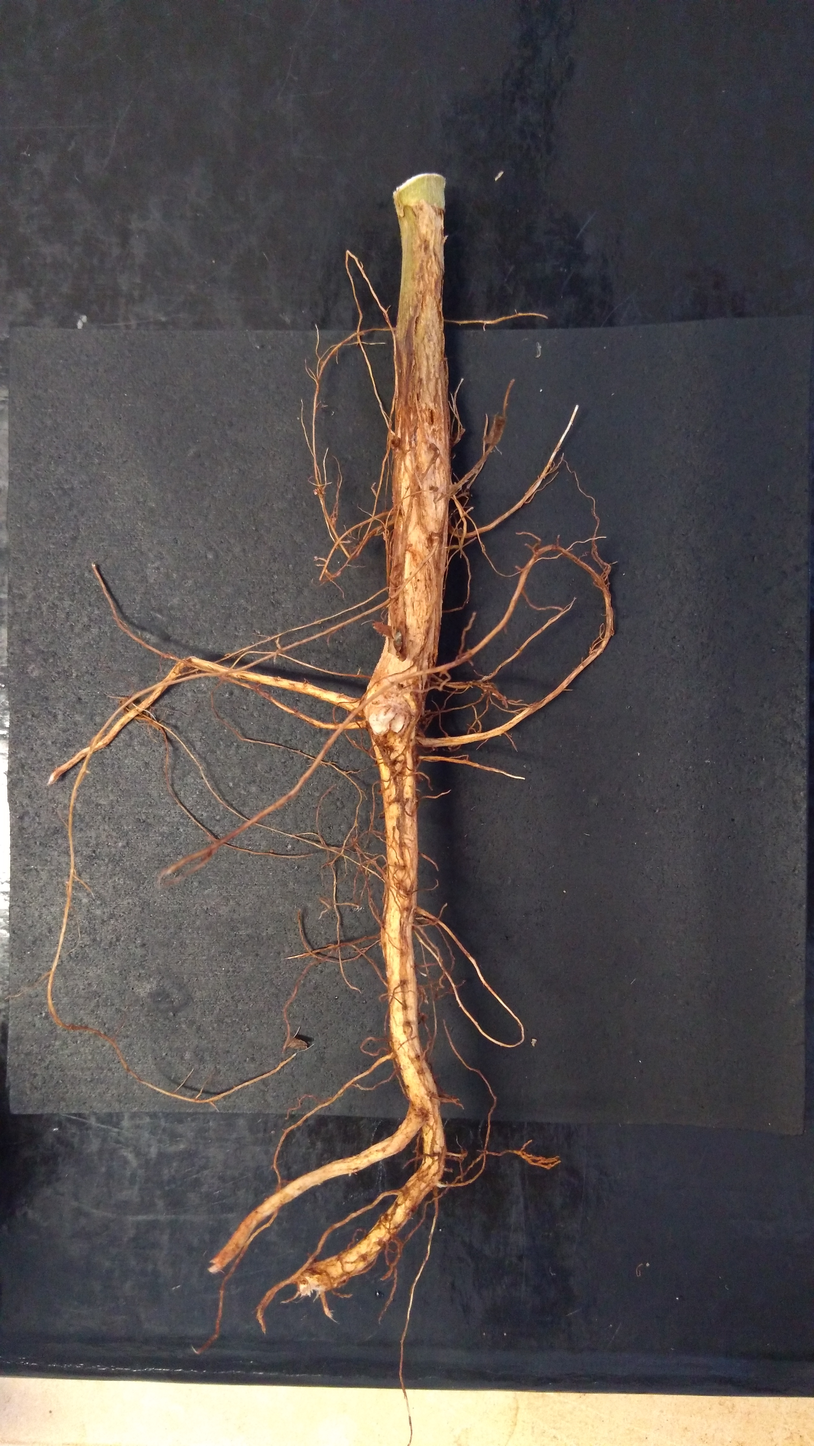nodule: (367, 706, 398, 737), (383, 735, 407, 760), (389, 711, 405, 733), (286, 1035, 308, 1050), (413, 916, 434, 930), (117, 696, 134, 713), (392, 631, 404, 652), (388, 432, 401, 450), (394, 753, 404, 774), (382, 528, 389, 541), (531, 1038, 537, 1047), (313, 490, 317, 495)
